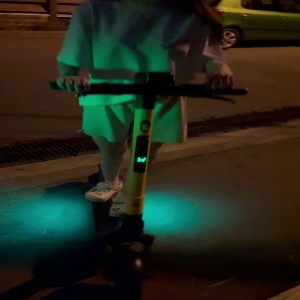human on a scooter: (47, 1, 250, 299)
